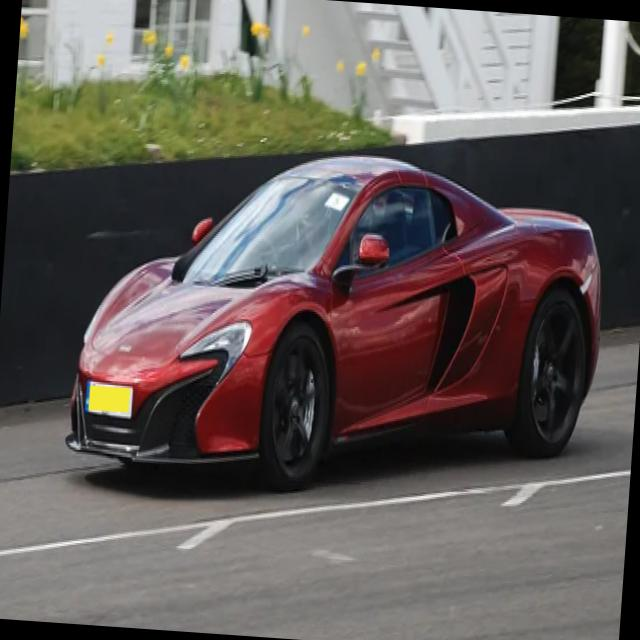LicensePlate: (85, 382, 131, 417)
